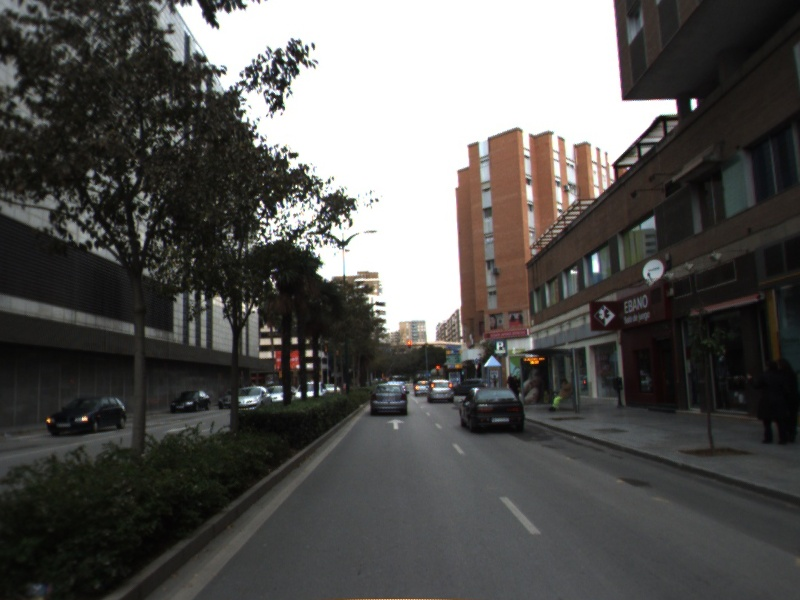STRAIGHT: (384, 416, 407, 431)
